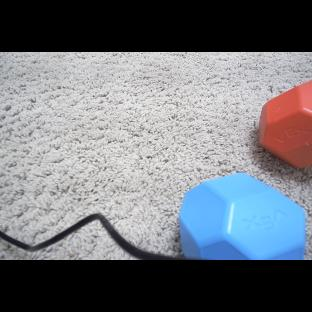V5_BLUE: (179, 175, 307, 260)
V5_RED: (258, 77, 312, 166)
